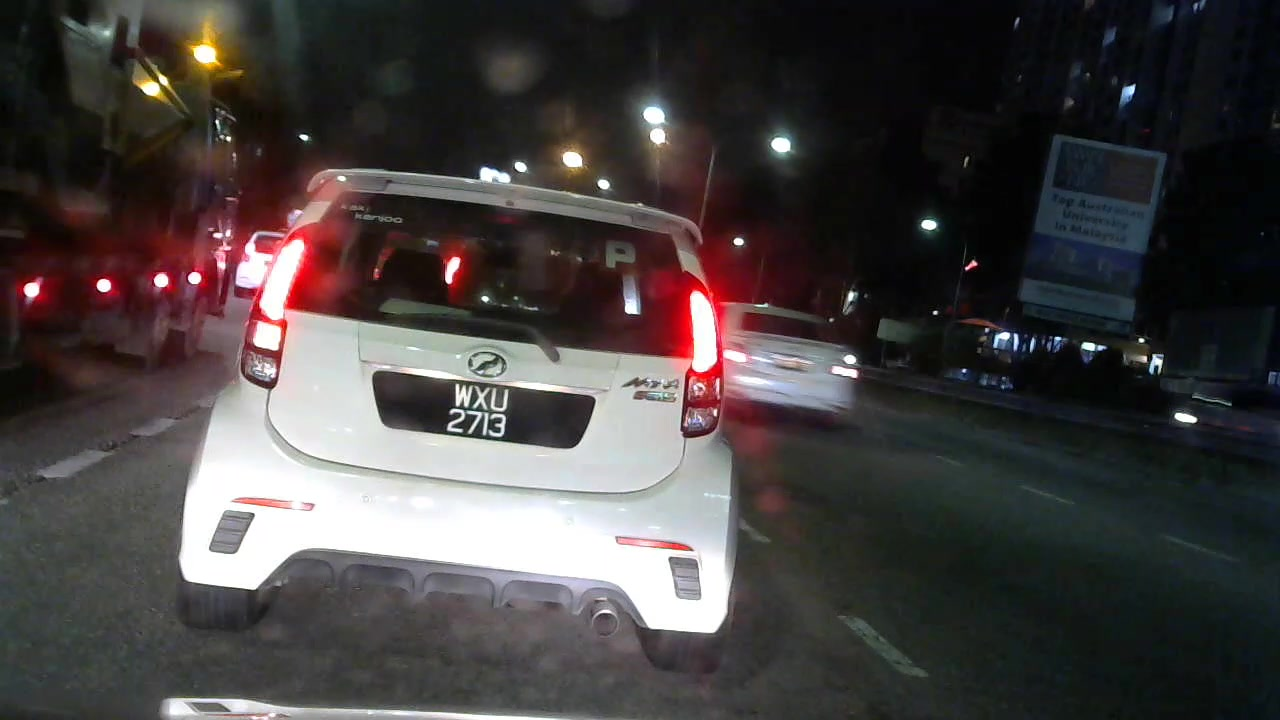Car: (179, 155, 724, 671), (720, 290, 875, 430)
